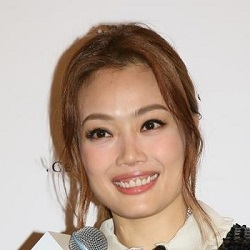unmask: (66, 79, 197, 224)
